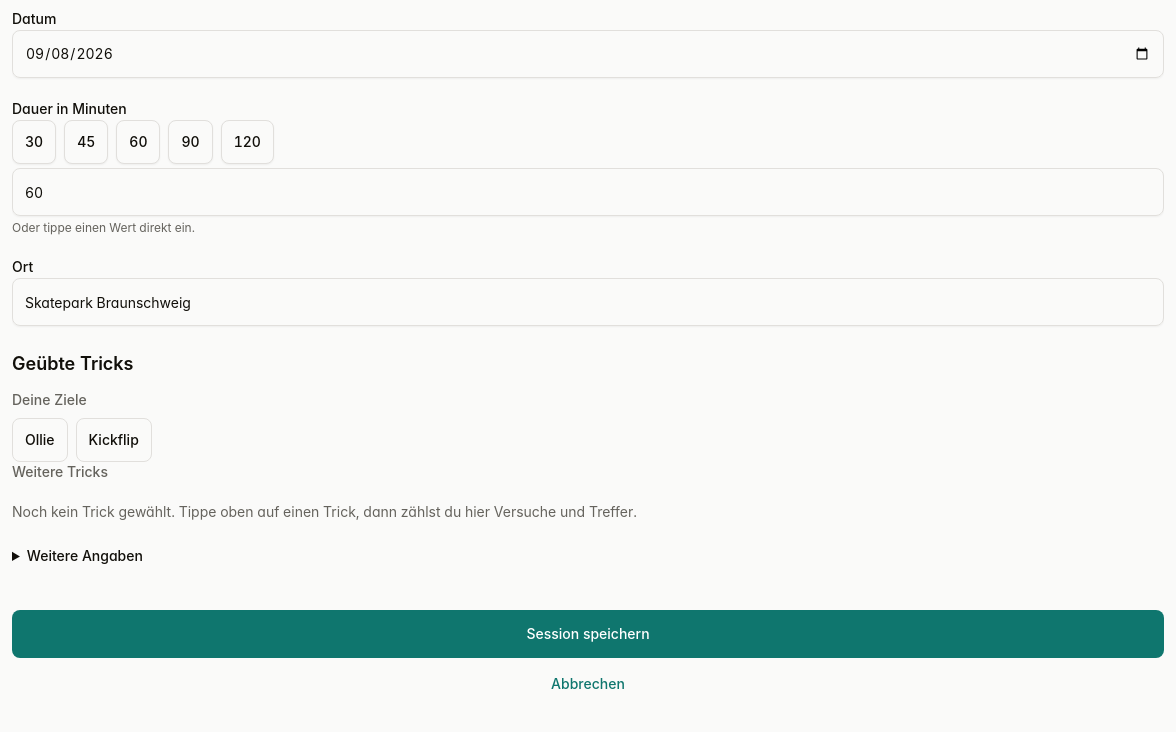
Test: SessionForm › Kriterium 14: three taps on the attempts '+' raise the counter from 10 to 13
Click the button "Ollie": click(40, 440) top-left (12, 418), bottom-right (68, 462)
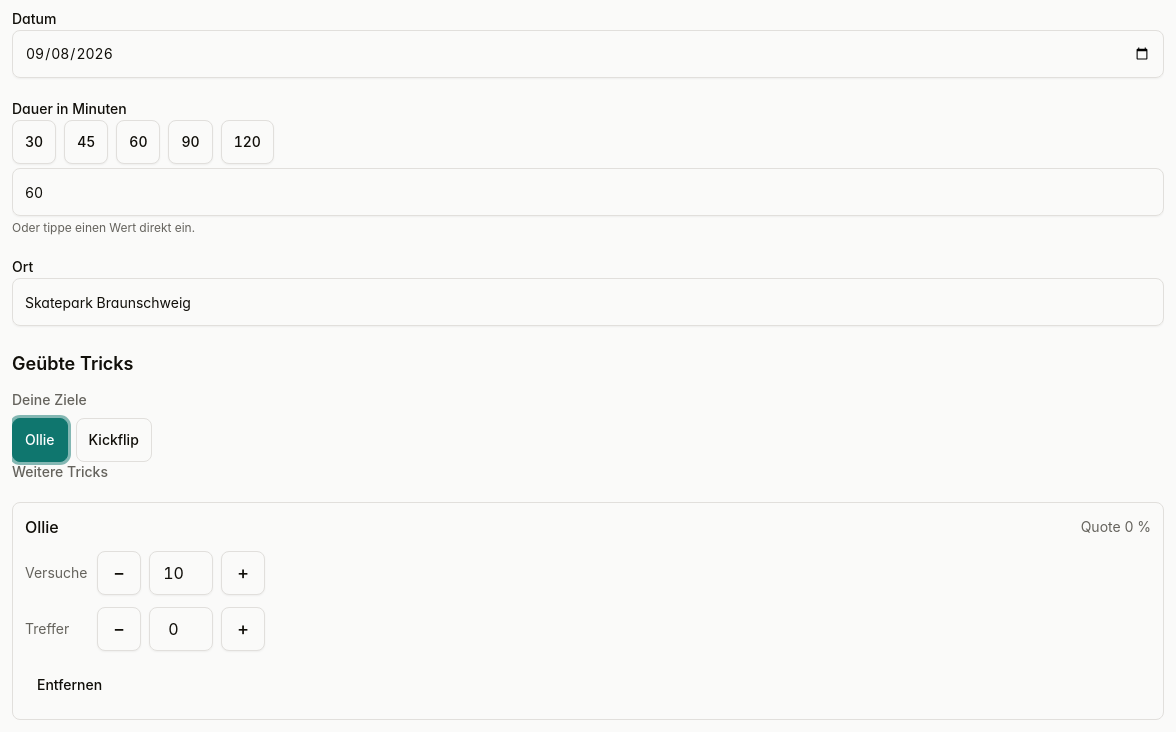
Click the button named "Versuche für Ollie: Eins mehr": click(243, 573) top-left (221, 551), bottom-right (265, 595)
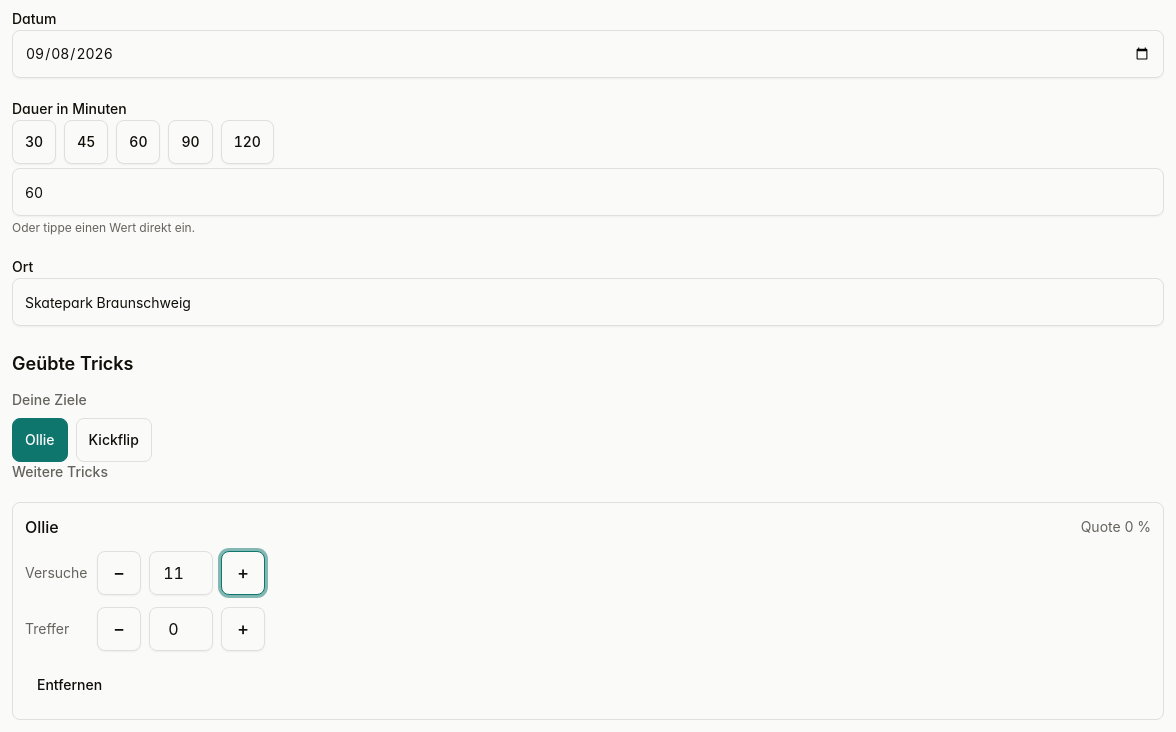
Click the button named "Versuche für Ollie: Eins mehr": click(243, 573) top-left (221, 551), bottom-right (265, 595)
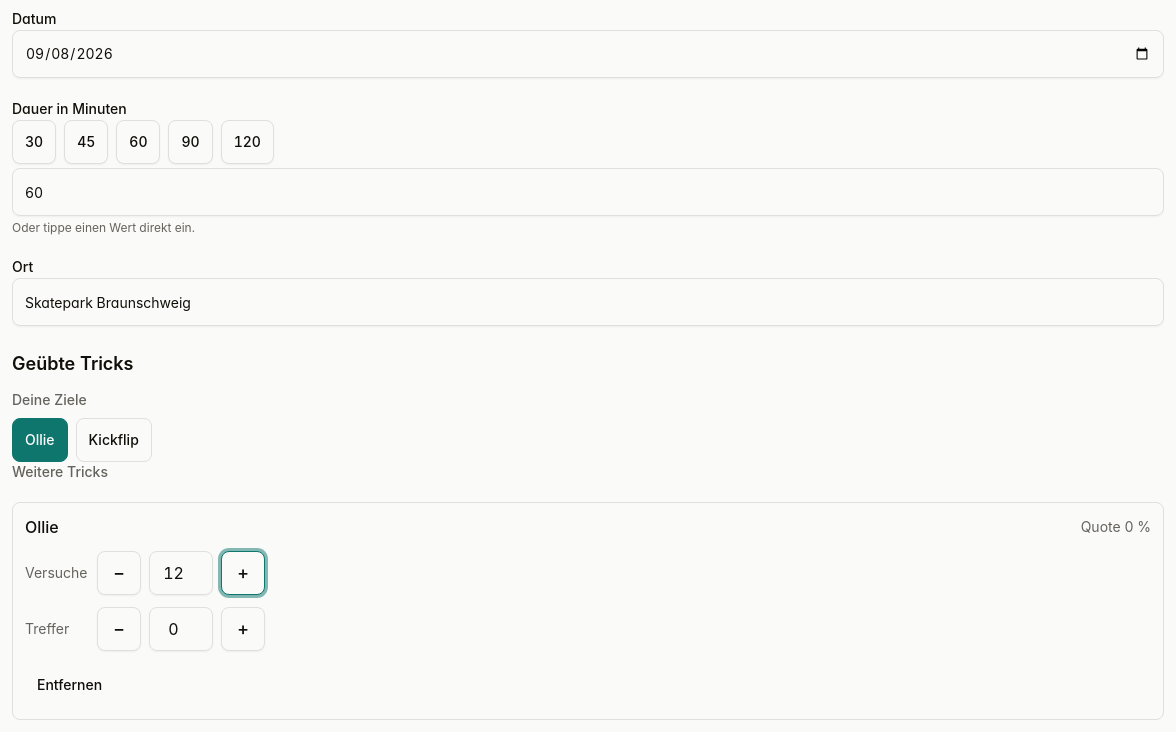
Click the button named "Versuche für Ollie: Eins mehr": click(243, 573) top-left (221, 551), bottom-right (265, 595)
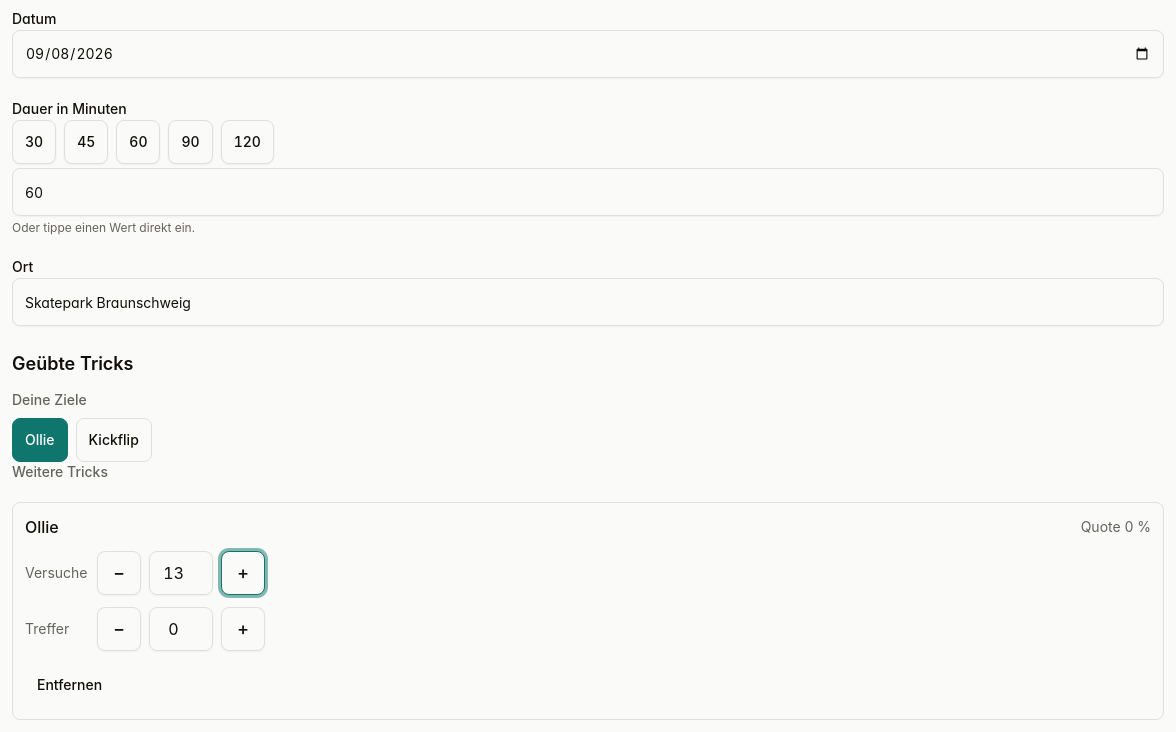
Expected: the number field named "Versuche für Ollie" holds "13", top-left (149, 551), bottom-right (213, 595)
